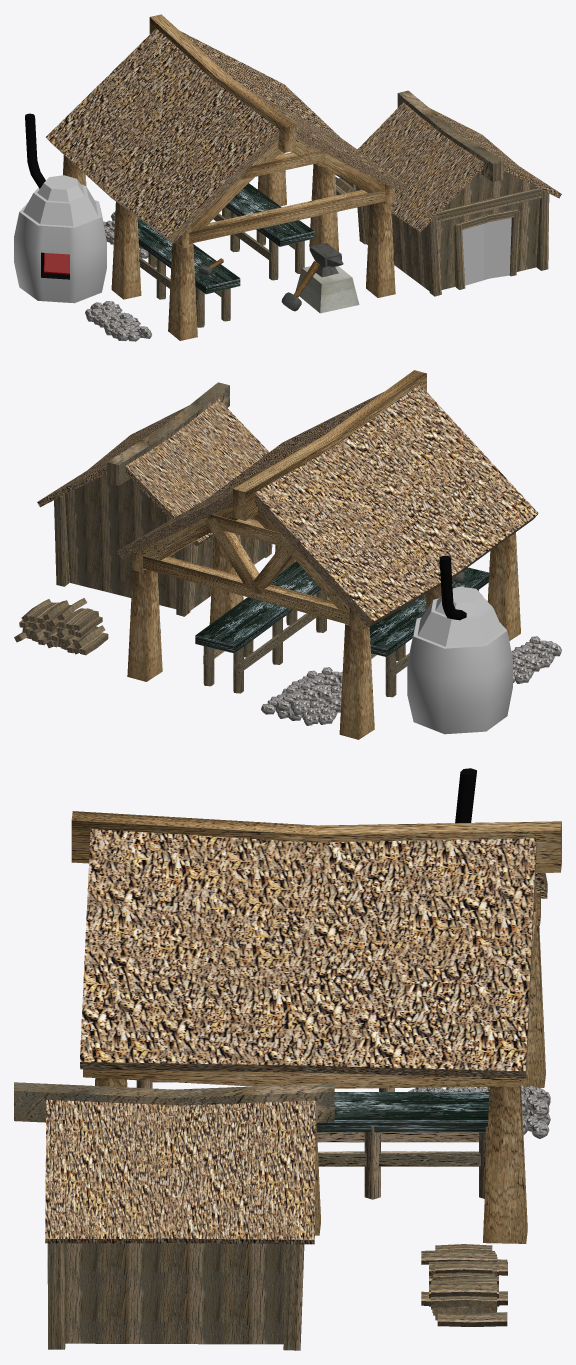
The model's file is Wood_Blacksmith.FBX.
3 renders of one model, top to bottom at view 1: azimuth 30°, elevation 25°; view 2: azimuth 150°, elevation 25°; view 3: azimuth 270°, elevation 25°, orthographic. The views are drawn at different scales.
Parts seen in each view (by area): view 1: EngineersShack; view 2: EngineersShack; view 3: EngineersShack.
Boxes of the visible parts, <box> form: EngineersShack: <box>14,14,561,341</box>; EngineersShack: <box>14,370,561,739</box>; EngineersShack: <box>14,768,561,1350</box>.
Bounding box in the file's own units: 1504 × 662 × 992.
